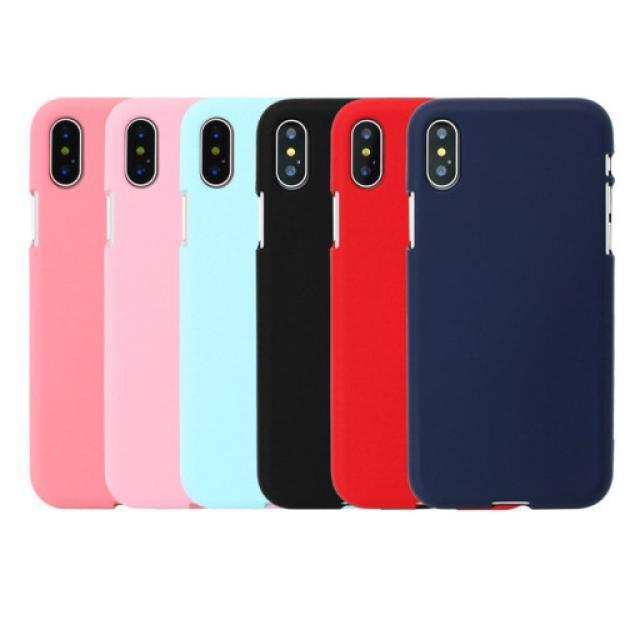phone: (410, 98, 615, 510)
